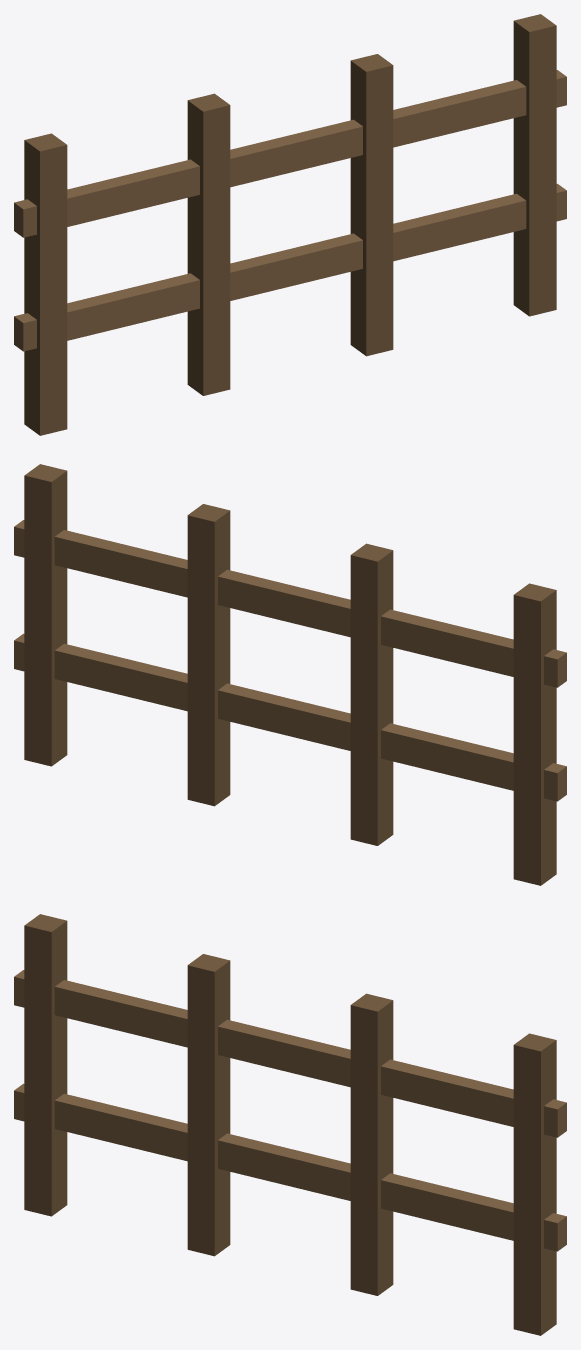
File: fence.glb
3 renders of one model, top to bottom at view 1: azimuth 30°, elevation 25°; view 2: azimuth 150°, elevation 25°; view 3: azimuth 330°, elevation 25°, orthographic.
Parts seen in each view (by area): view 1: fence; view 2: fence; view 3: fence.
Boxes of the visible parts, x1=… form: fence: x1=14, y1=14, x2=566, y2=435; fence: x1=14, y1=464, x2=566, y2=885; fence: x1=14, y1=914, x2=566, y2=1335.
Size of the model in its own units: 2 by 1 by 0.1.
